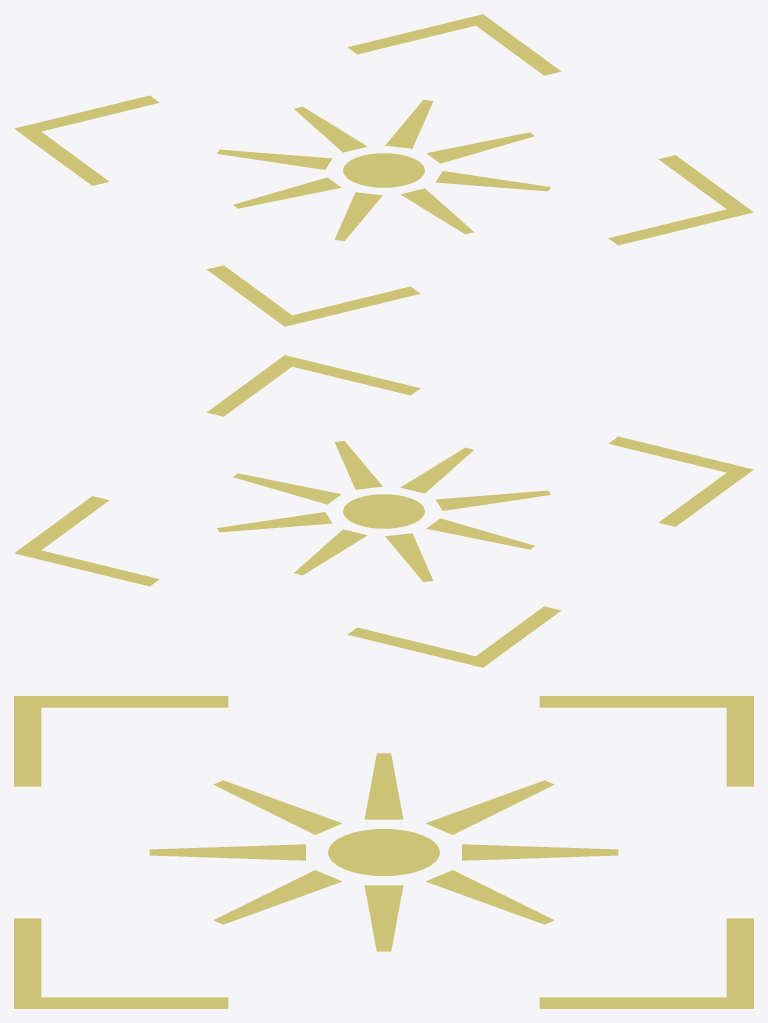
The model's file is sun_icon.glb.
The picture shows the model from 3 angles, top to bottom: view 1: azimuth 30°, elevation 25°; view 2: azimuth 150°, elevation 25°; view 3: azimuth 270°, elevation 25°; orthographic projection. The views are drawn at different scales.
Visible parts, largest first — view 1: Cube; view 2: Cube; view 3: Cube.
Boxes of the visible parts, box(x1,y1,x2,y2) form: Cube: box(14, 14, 753, 326); Cube: box(14, 355, 753, 667); Cube: box(14, 696, 753, 1008).
Bounding box in the file's own units: 0.95 × 0 × 0.95.
